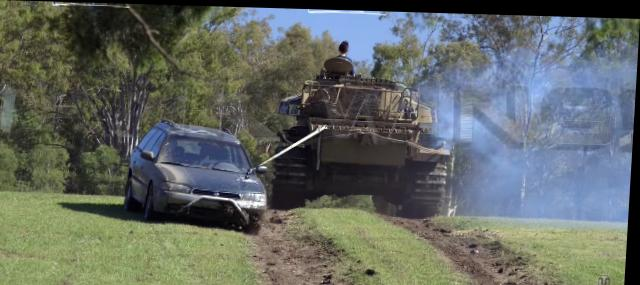tank: (276, 77, 449, 211)
